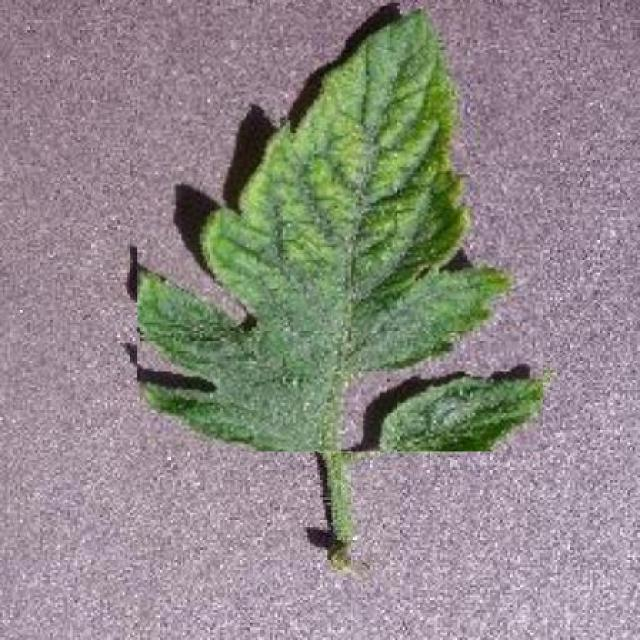Mosaic Virus: (138, 7, 543, 452)
